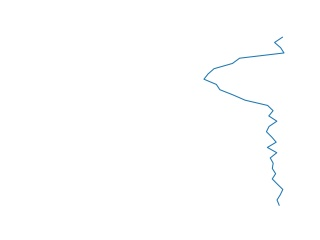distalBar: (198, 37, 290, 205)
